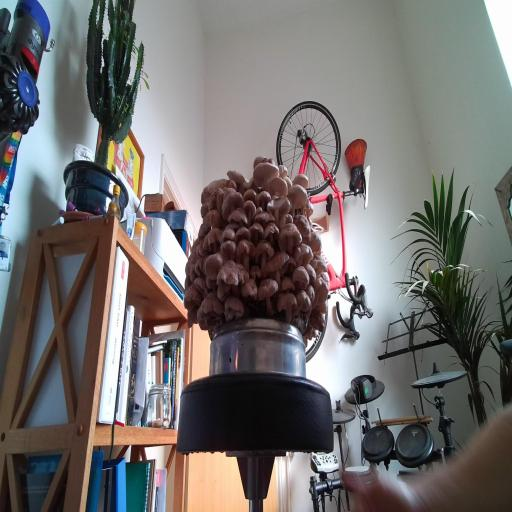Shiitake Mushroom: (267, 214, 312, 262), (258, 184, 300, 229), (260, 239, 296, 289), (247, 233, 279, 282), (229, 231, 263, 275), (194, 169, 235, 205), (213, 185, 252, 222), (197, 242, 229, 286), (288, 206, 320, 248), (271, 283, 302, 325), (253, 271, 281, 317), (216, 260, 249, 298), (176, 280, 208, 319), (283, 175, 313, 216), (256, 217, 286, 251), (302, 304, 333, 336), (306, 273, 332, 310), (235, 194, 263, 227), (290, 237, 317, 271), (221, 161, 250, 191), (250, 185, 279, 214), (192, 304, 223, 329), (304, 227, 327, 258), (253, 163, 279, 190), (250, 206, 279, 230), (202, 222, 222, 256), (246, 217, 268, 247), (223, 292, 245, 322), (192, 216, 216, 242), (201, 290, 225, 316), (241, 173, 262, 202), (297, 196, 319, 222), (291, 264, 311, 292), (216, 180, 240, 202), (309, 251, 329, 277), (281, 253, 301, 278), (274, 210, 297, 230), (241, 276, 259, 301), (294, 287, 311, 313), (268, 175, 288, 197), (216, 223, 238, 243), (310, 300, 332, 320), (304, 259, 319, 287), (195, 199, 215, 220), (302, 281, 321, 303), (208, 187, 224, 213), (228, 207, 248, 226), (252, 153, 277, 168), (220, 239, 237, 260), (291, 172, 311, 189), (195, 241, 211, 262), (204, 209, 221, 227), (233, 225, 252, 241), (279, 275, 297, 291), (202, 276, 220, 292), (224, 218, 243, 233), (242, 186, 257, 205), (281, 172, 296, 190), (187, 306, 198, 328), (181, 272, 194, 290), (188, 239, 202, 254), (189, 248, 200, 266), (304, 328, 319, 341), (249, 265, 261, 280), (195, 257, 204, 276), (182, 260, 193, 275), (190, 263, 197, 283), (319, 271, 331, 282), (279, 165, 287, 179), (195, 243, 202, 259), (254, 205, 265, 215)
